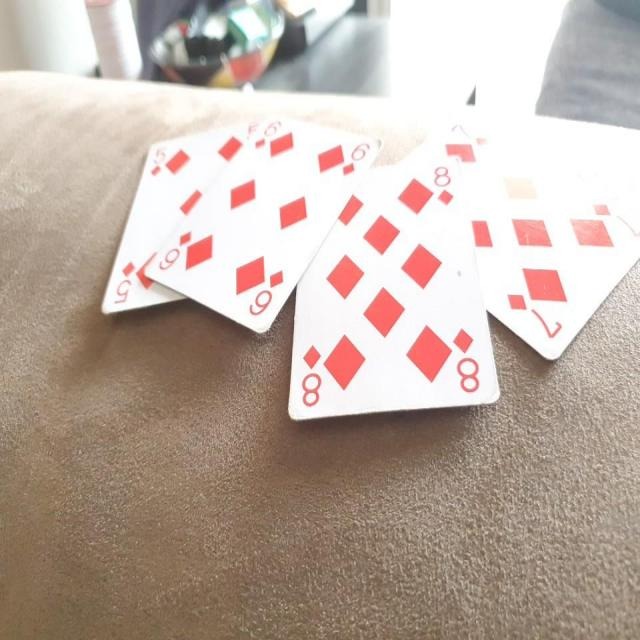5 Diamonds: (95, 116, 262, 314)
6 Diamonds: (143, 113, 384, 340)
7 Diamonds: (398, 117, 640, 361)
8 Diamonds: (287, 155, 501, 425)
